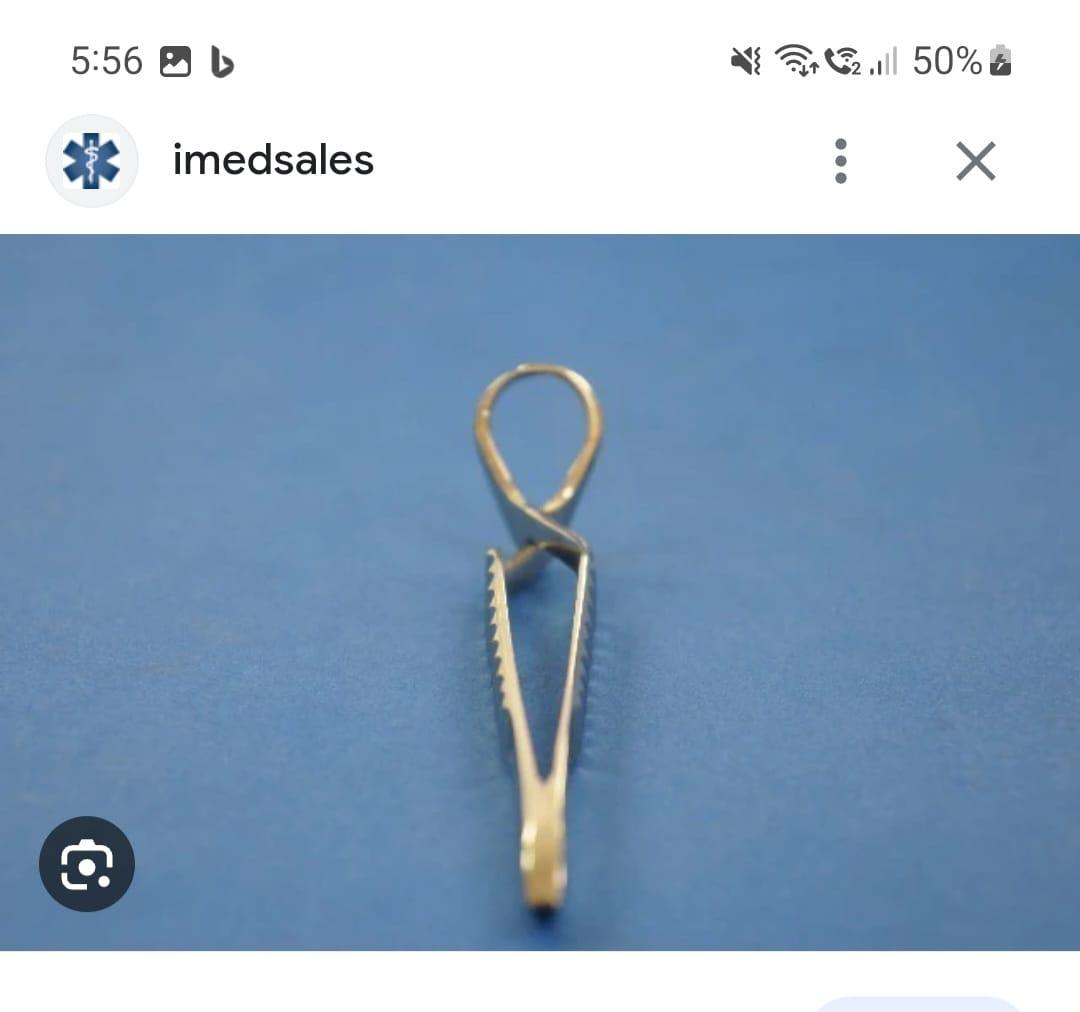Jones Towel Clamp: (451, 351, 619, 923)
